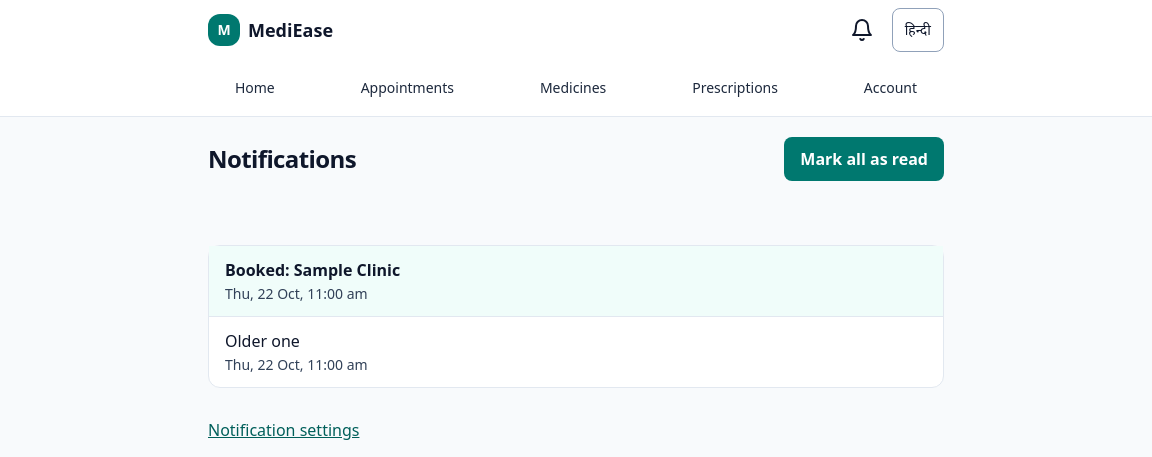
Test: Notifications (M6b-P6, R55, R68) › lists the API's titles, marks one read on opening and all with one button
This screenshot has width=1152, height=457.
expect the navigation bar is shown: met, box top-left (0, 60), bottom-right (1151, 116)
expect the link "Older one Thu, 22 Oct, 11:00 am" is shown: met, box top-left (225, 330), bottom-right (368, 374)
Click the button "Mark all as read": point(864, 159) top-left (784, 137), bottom-right (944, 181)
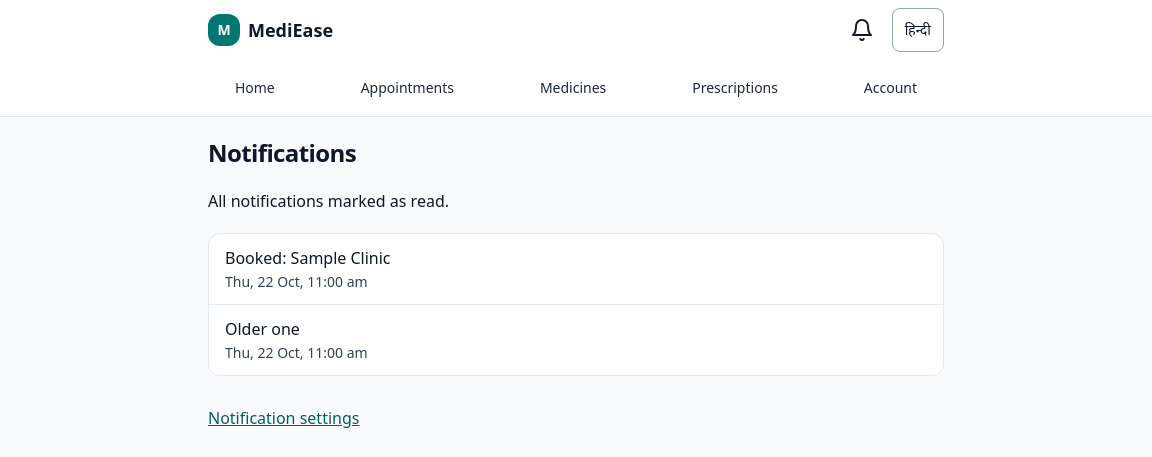
expect the text "All notifications marked as read." is shown: met, box top-left (208, 190), bottom-right (449, 212)
expect the button "Mark all as read" is gone: met
